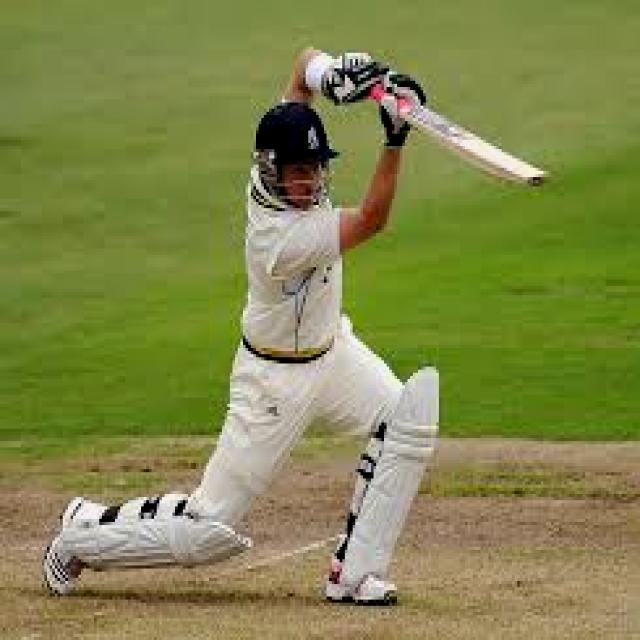toe: (501, 158, 551, 194)
